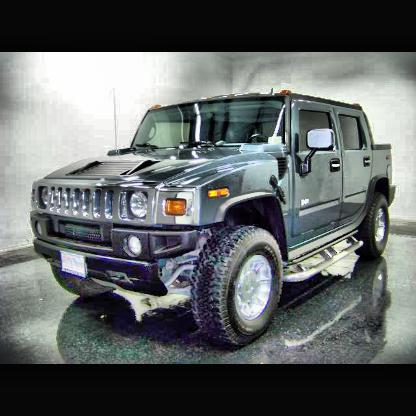HUMMER H2 SUT Crew Cab 2009: (32, 90, 399, 348)
